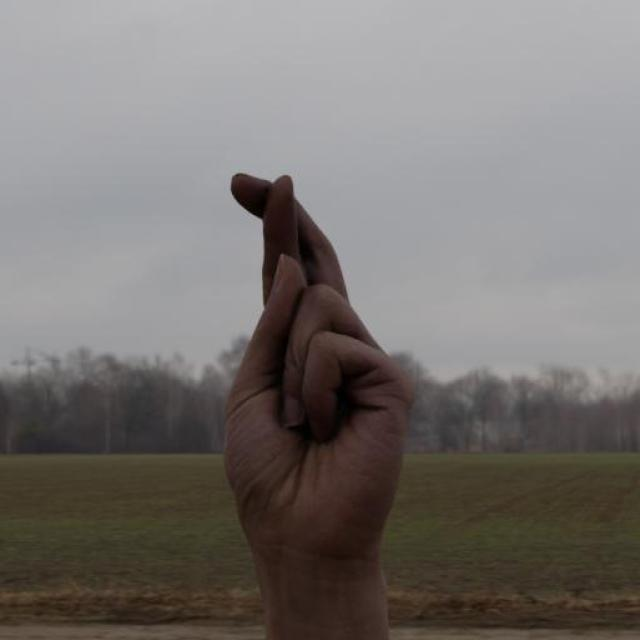R: (213, 160, 420, 584)
